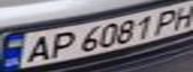0: (100, 20, 124, 48)
1: (130, 11, 160, 39)
6: (75, 24, 103, 53)
8: (115, 16, 142, 45)
A: (18, 33, 57, 64)
H: (166, 1, 193, 30)
P: (42, 29, 78, 60), (148, 7, 187, 35)
